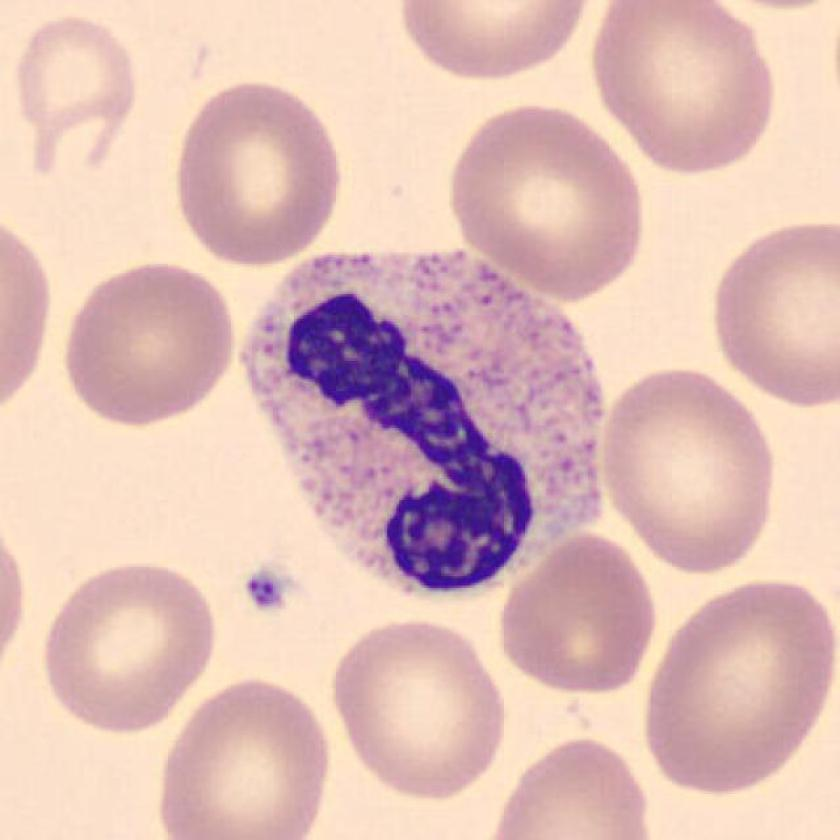neutrophil: (240, 245, 605, 594)
